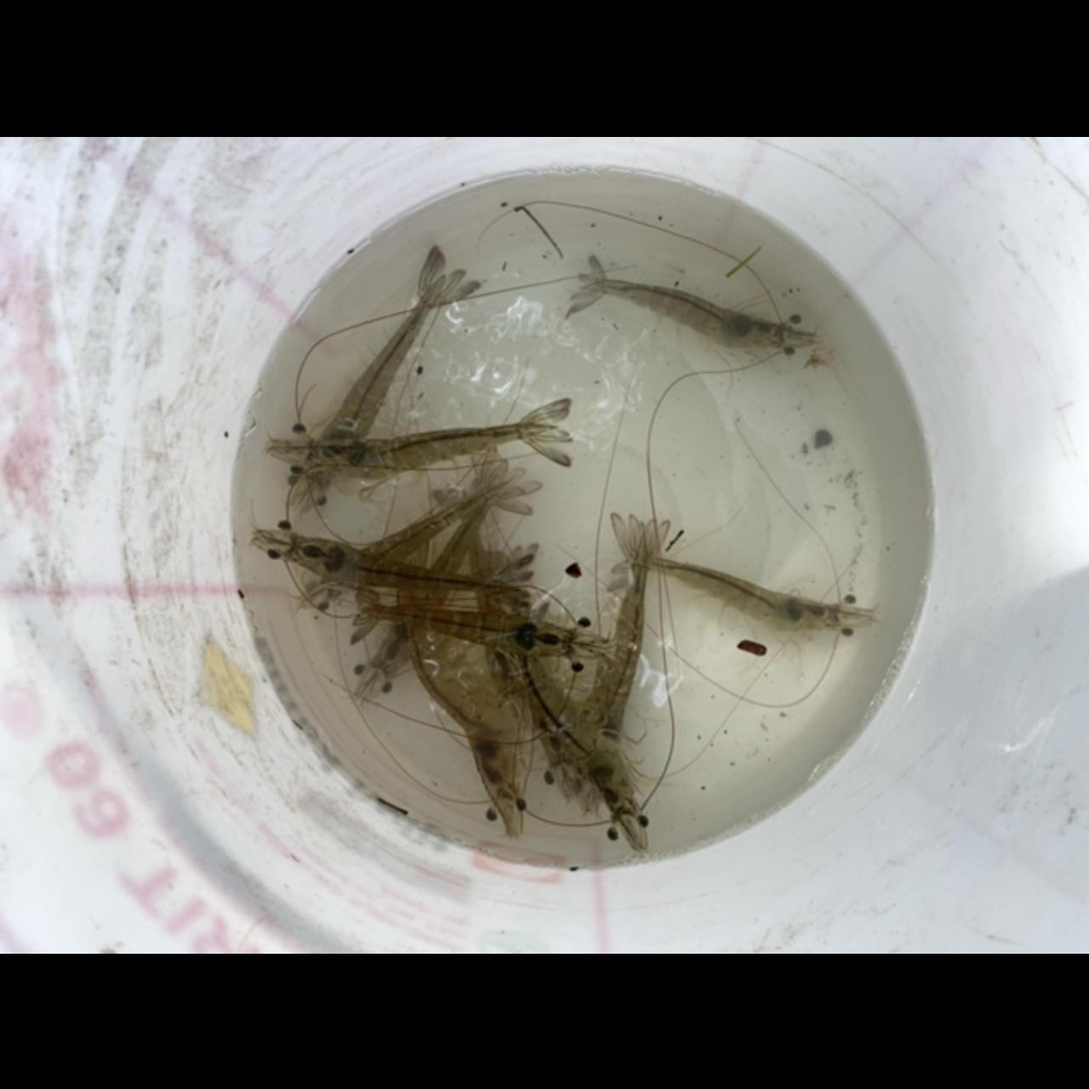side_shrimp: (401, 517, 521, 800)
top_shrimp: (308, 274, 447, 488), (370, 471, 501, 675), (514, 608, 636, 819), (320, 476, 518, 597), (462, 488, 542, 722), (578, 530, 648, 781), (623, 556, 836, 630), (581, 277, 783, 349), (307, 423, 557, 480), (288, 534, 524, 592), (357, 606, 573, 657)
